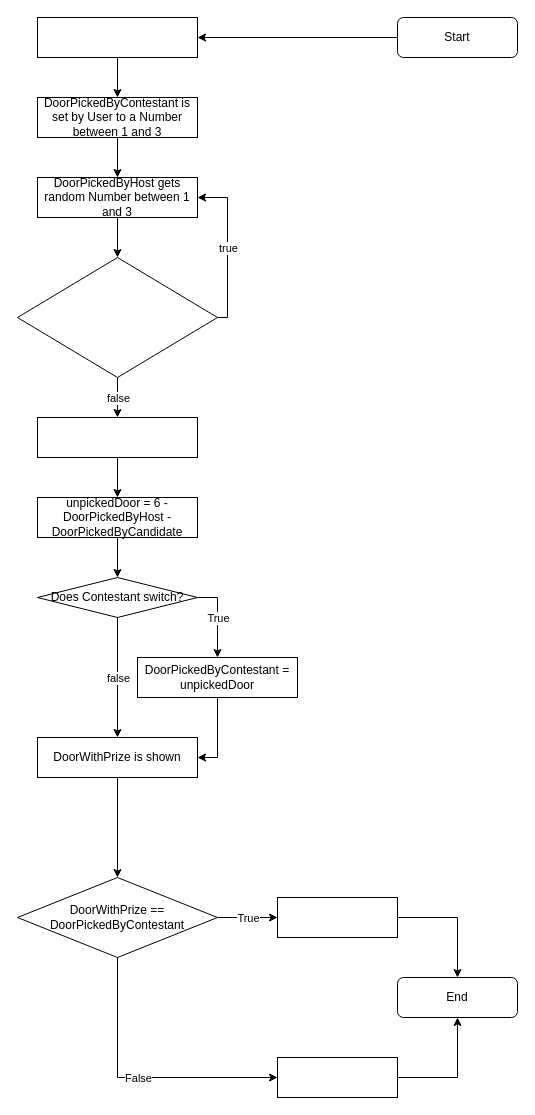
Some shapes in this 535 by 1115 pixel diagram are drawn without their labels. Here are the shapes that lost their labels. From the top down, the centre of each, then its label:
At (x=117, y=37): "DoorWithPrize gets random Number between 1 and 3".
At (x=117, y=317): "DoorPickedByHost == DoorPickedByContestant || DoorPickedByHost == DoorWithPrize".
At (x=117, y=437): "DoorPickedByHost is shown to not contain the Prize".
At (x=337, y=917): "Contestant Wins".
At (x=337, y=1077): "Contestant Loses".
